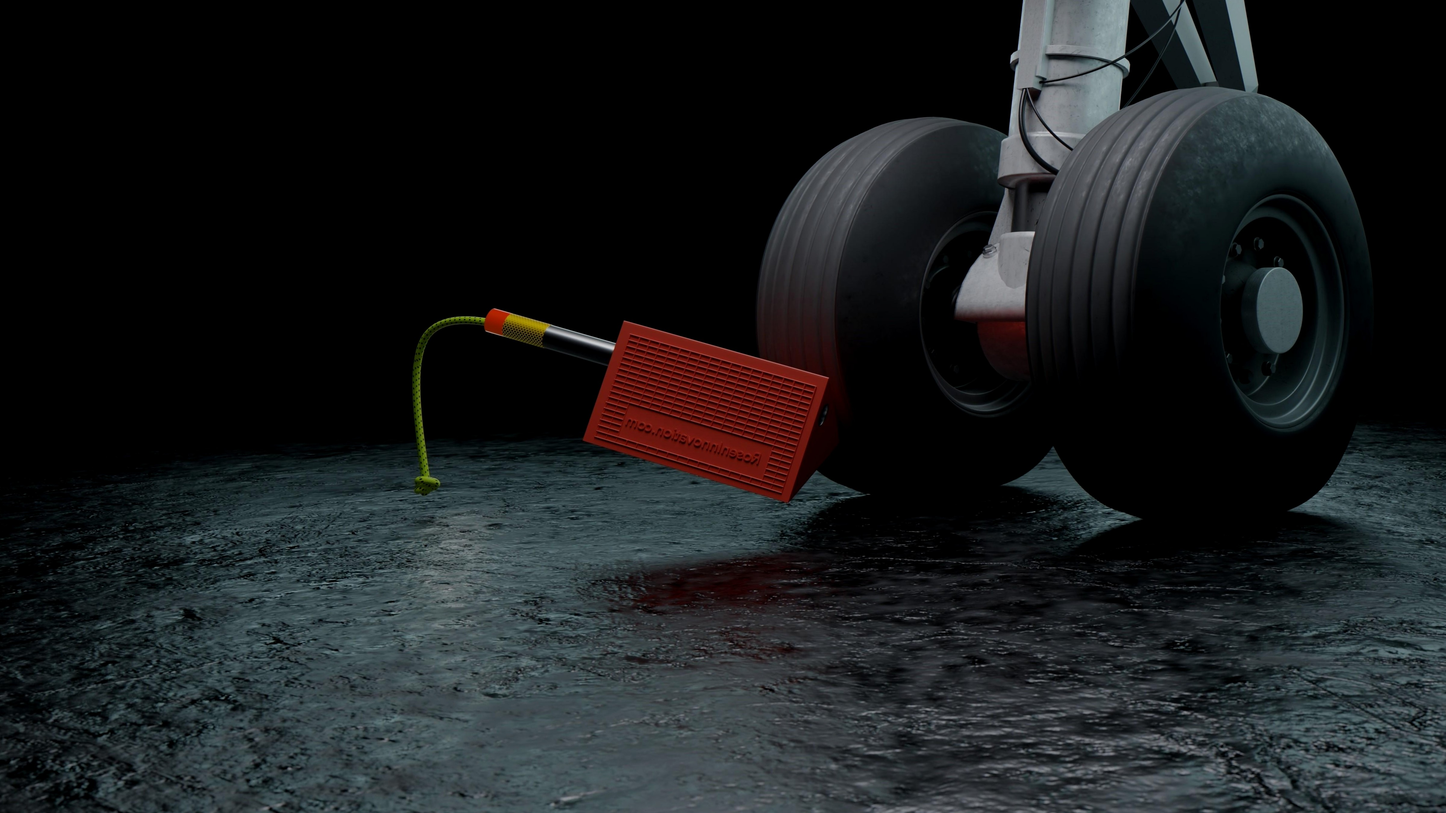chock: (578, 311, 848, 512)
wheel: (1021, 80, 1391, 533), (756, 109, 1068, 505)
